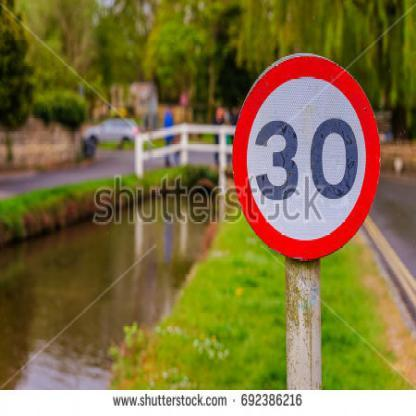Speed Limit 30: (239, 58, 380, 255)
